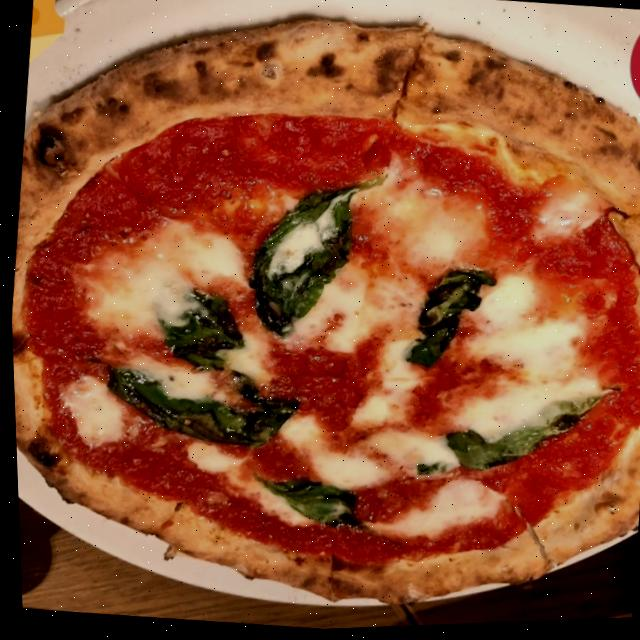basil: (237, 165, 380, 345), (94, 357, 304, 459), (435, 384, 595, 487), (397, 260, 494, 377), (140, 277, 248, 378), (236, 465, 377, 540), (406, 459, 436, 483)
pizza: (0, 0, 640, 640)
